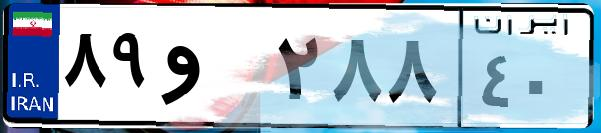0: (525, 38, 570, 115)
2: (270, 28, 330, 110)
4: (475, 38, 525, 113)
8: (385, 28, 445, 110), (330, 28, 385, 110), (57, 26, 110, 100)
9: (110, 28, 158, 98)
و: (158, 20, 270, 120)
